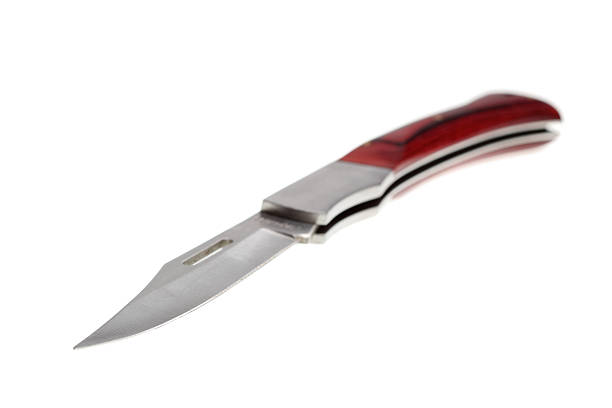knife: (68, 89, 564, 352)
